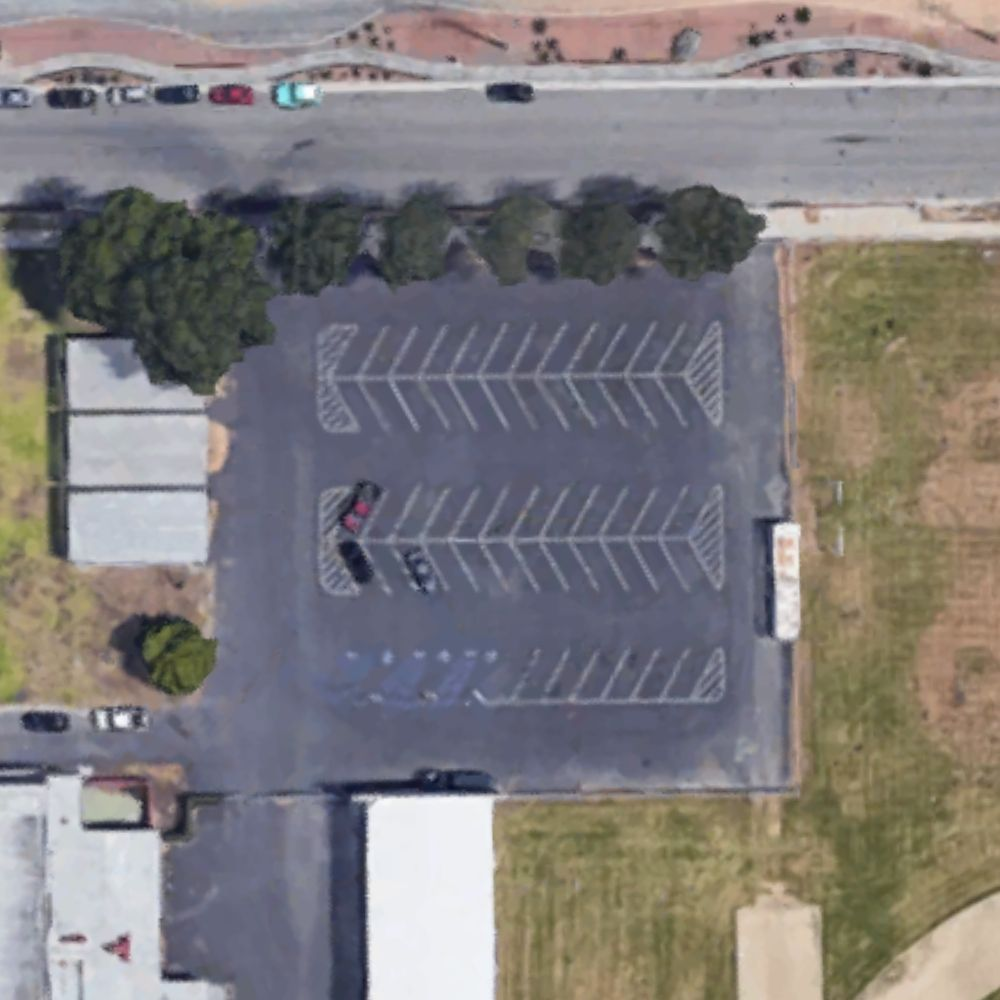parking: (200, 220, 790, 790)
